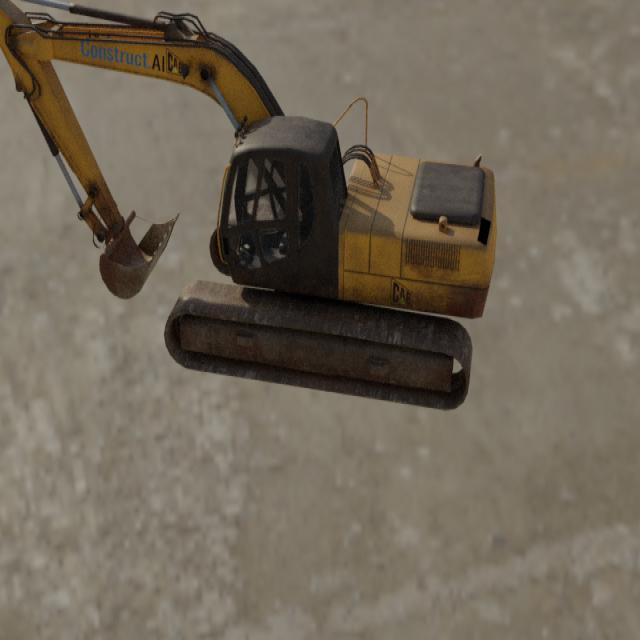excavator: (0, 0, 498, 412)
